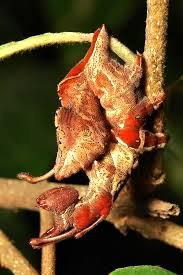Lobster Moth: (27, 18, 180, 251)
